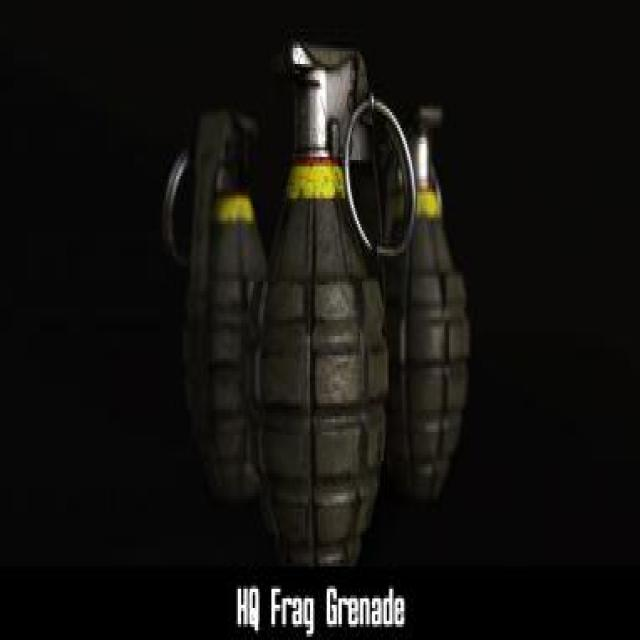grenade: (244, 39, 418, 574), (164, 107, 269, 504), (378, 100, 473, 507)
